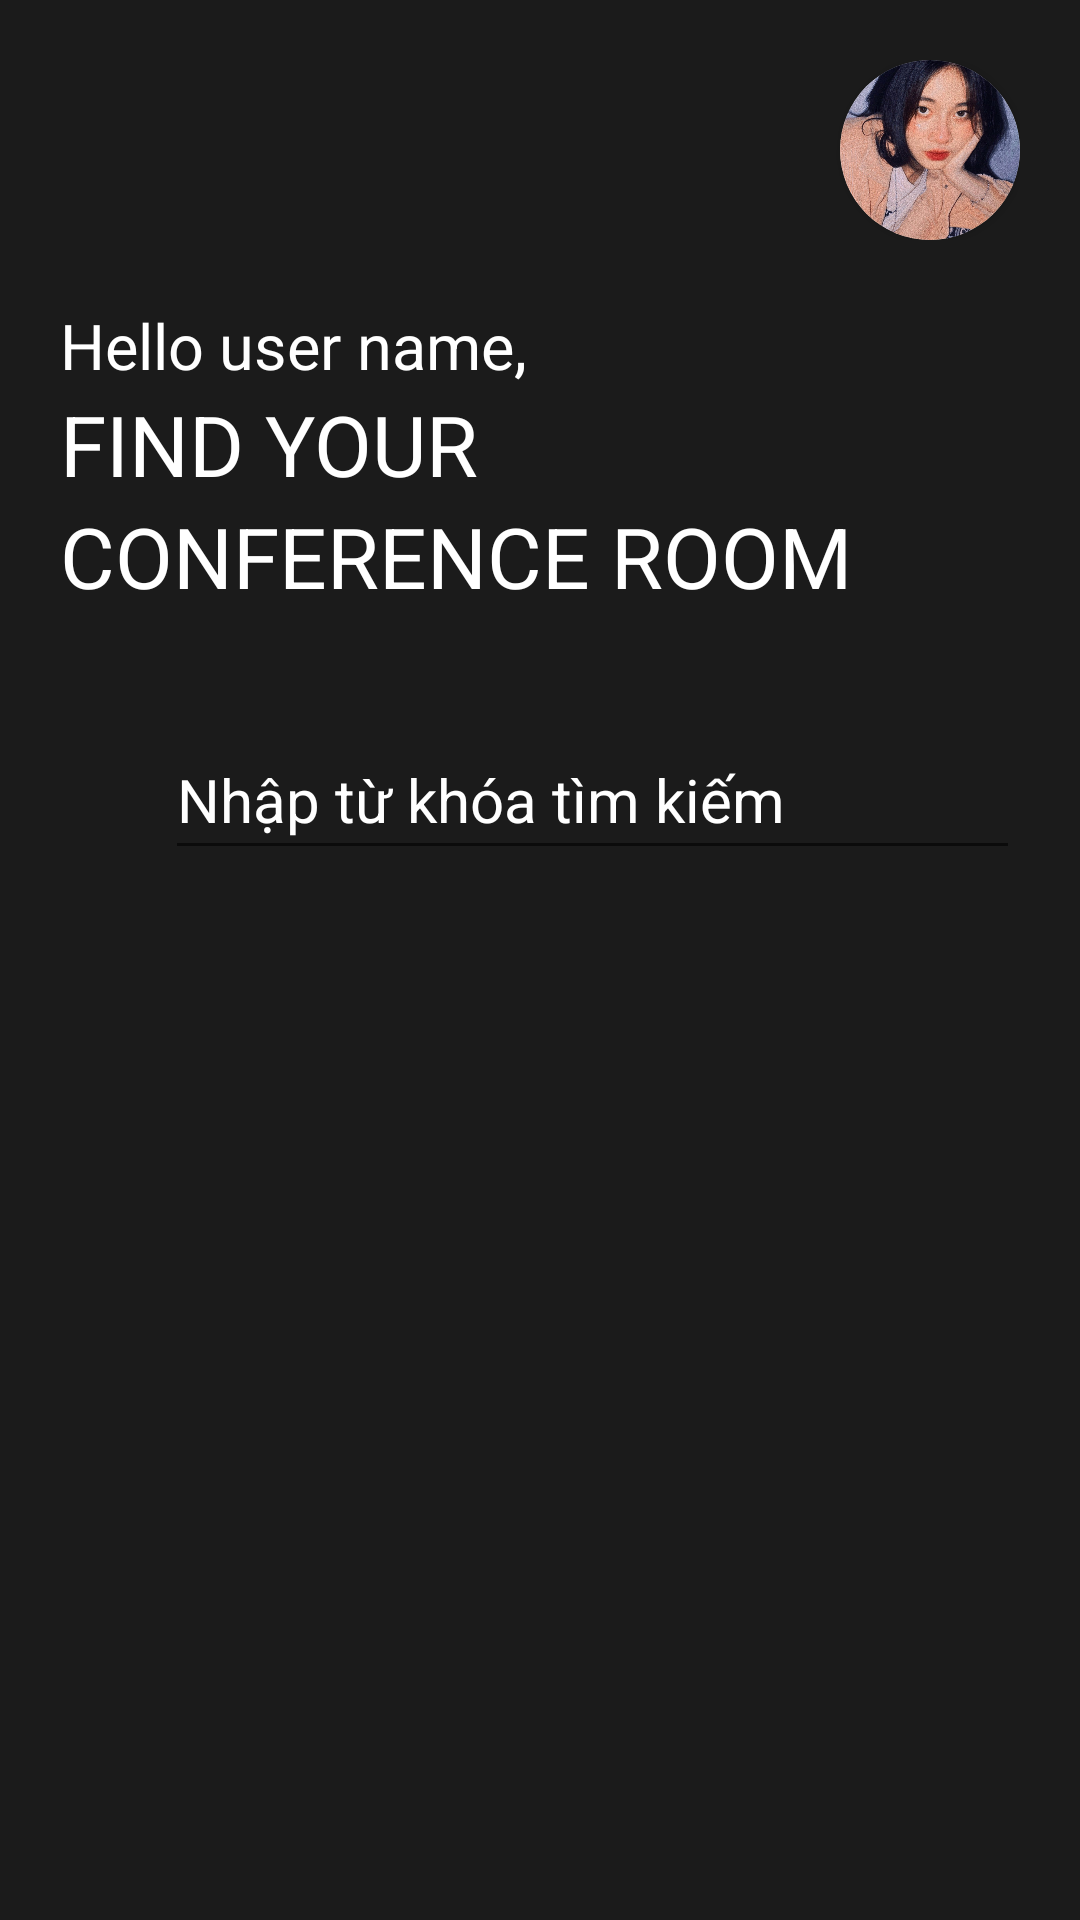

Point at icon controls on the screen. Image size 1080x1920, points as (x,y).
user ava: (930,150)
